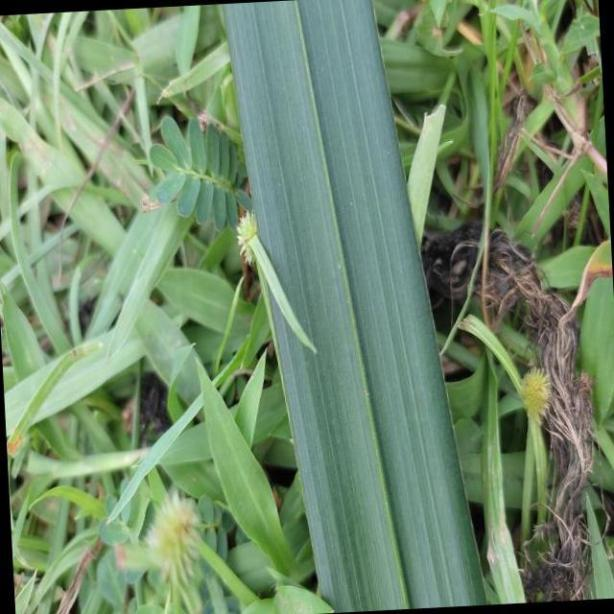Healthy: (224, 2, 488, 610)
